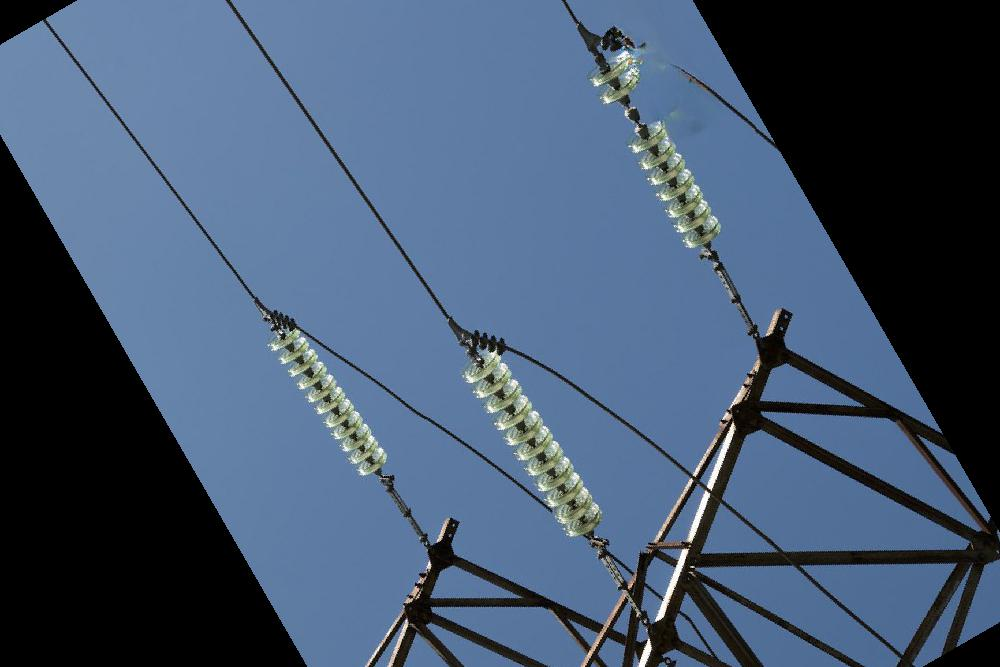insulator: (459, 345, 609, 544), (583, 57, 727, 257), (264, 323, 390, 481)
insulator_stringdrop: (596, 69, 670, 156)
